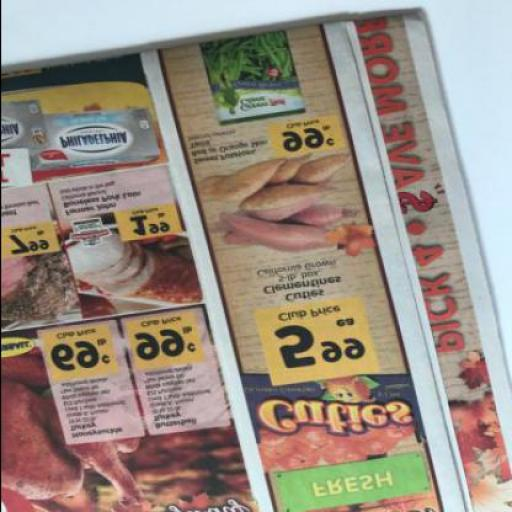paper: (2, 12, 511, 512)
